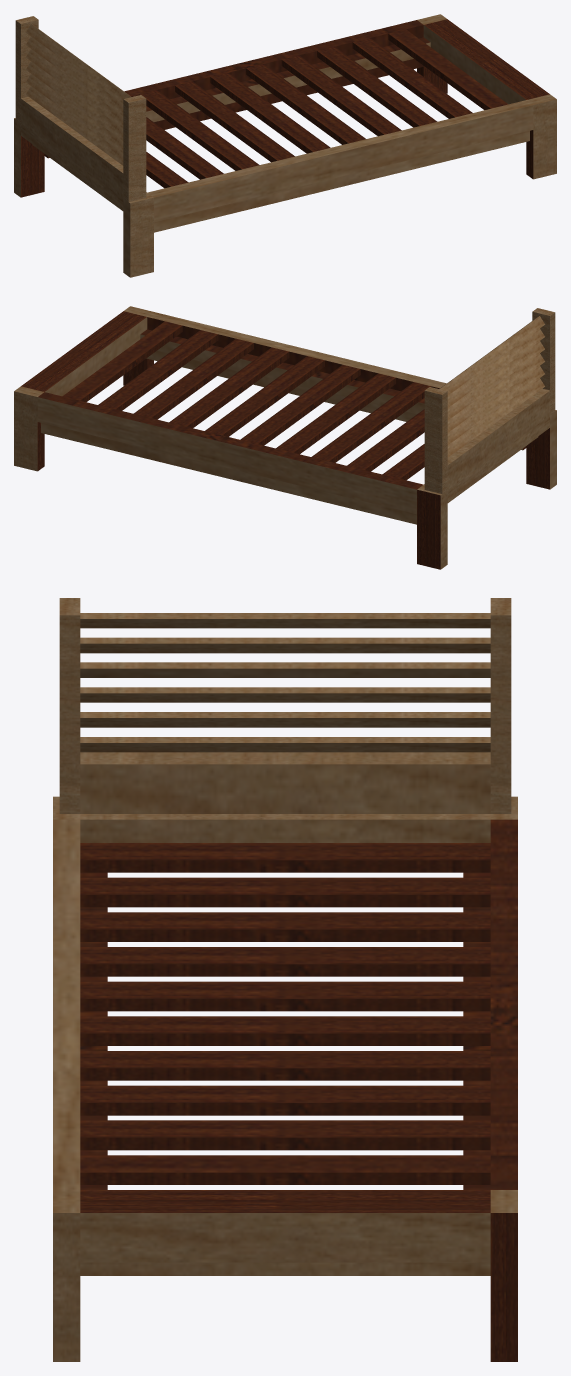
File: bednew.fbx
The picture shows the model from 3 angles, top to bottom: view 1: azimuth 30°, elevation 25°; view 2: azimuth 150°, elevation 25°; view 3: azimuth 270°, elevation 25°; orthographic projection. The views are drawn at different scales.
Visible parts, largest first — view 1: cube_6, cube_1, cube_7, cube_4, cube_19, cube_29, cube_17, cube_10, cube_12, cube_18, cube_11, cube_9 (+18 smaller); view 2: cube_4, cube_3, cube_7, cube_6, cube_19, cube_30, cube_17, cube_10, cube_12, cube_18, cube_11, cube_9 (+18 smaller); view 3: cube_7, cube_19, cube_10, cube_13, cube_17, cube_18, cube_9, cube_11, cube_12, cube_14, cube_15, cube_16 (+16 smaller).
Boxes of the visible parts, x1,y1,x2,y2 form: cube_6: [147, 100, 533, 222]; cube_1: [154, 130, 529, 232]; cube_7: [423, 19, 549, 104]; cube_4: [124, 20, 423, 98]; cube_19: [21, 96, 123, 197]; cube_29: [123, 95, 146, 201]; cube_17: [352, 38, 472, 118]; cube_10: [210, 73, 330, 153]; cube_12: [281, 55, 401, 136]; cube_18: [317, 46, 437, 127]; cube_11: [246, 64, 365, 144]; cube_9: [388, 29, 508, 110]; cube_4: [37, 392, 423, 514]; cube_3: [41, 422, 416, 524]; cube_7: [21, 311, 147, 396]; cube_6: [147, 312, 446, 390]; cube_19: [447, 388, 549, 489]; cube_30: [424, 387, 447, 493]; cube_17: [98, 330, 218, 410]; cube_10: [240, 365, 360, 445]; cube_12: [169, 347, 289, 428]; cube_18: [133, 338, 253, 419]; cube_11: [205, 356, 324, 436]; cube_9: [62, 321, 182, 402]; cube_7: [80, 1190, 490, 1262]; cube_19: [80, 752, 490, 813]; cube_10: [80, 981, 490, 1011]; cube_13: [80, 877, 490, 907]; cube_17: [80, 1120, 490, 1150]; cube_18: [80, 1085, 490, 1115]; cube_9: [80, 1155, 490, 1184]; cube_11: [80, 1016, 490, 1045]; cube_12: [80, 1051, 490, 1080]; cube_14: [80, 843, 490, 872]; cube_15: [80, 912, 490, 941]; cube_16: [80, 947, 490, 976].
Bounding box in the file's own units: 225 × 87.5 × 106.
